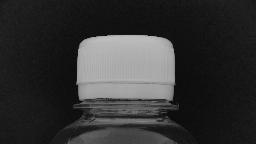Good Cap: (70, 32, 182, 114)
